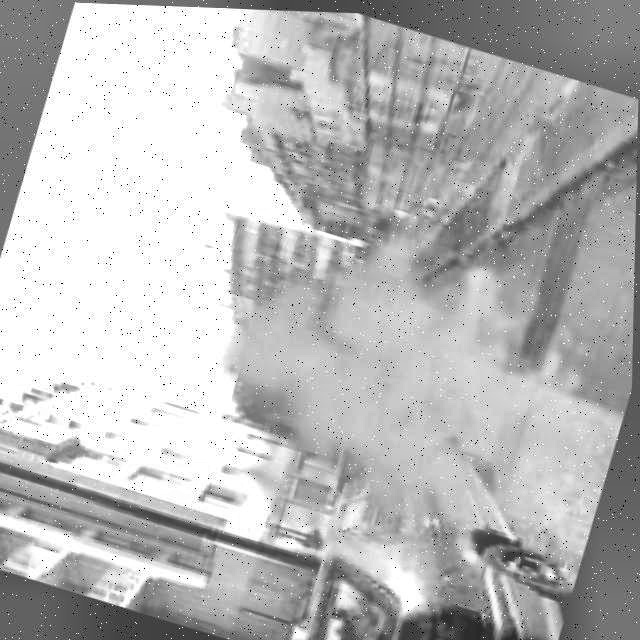Smoke: (158, 154, 636, 640)
